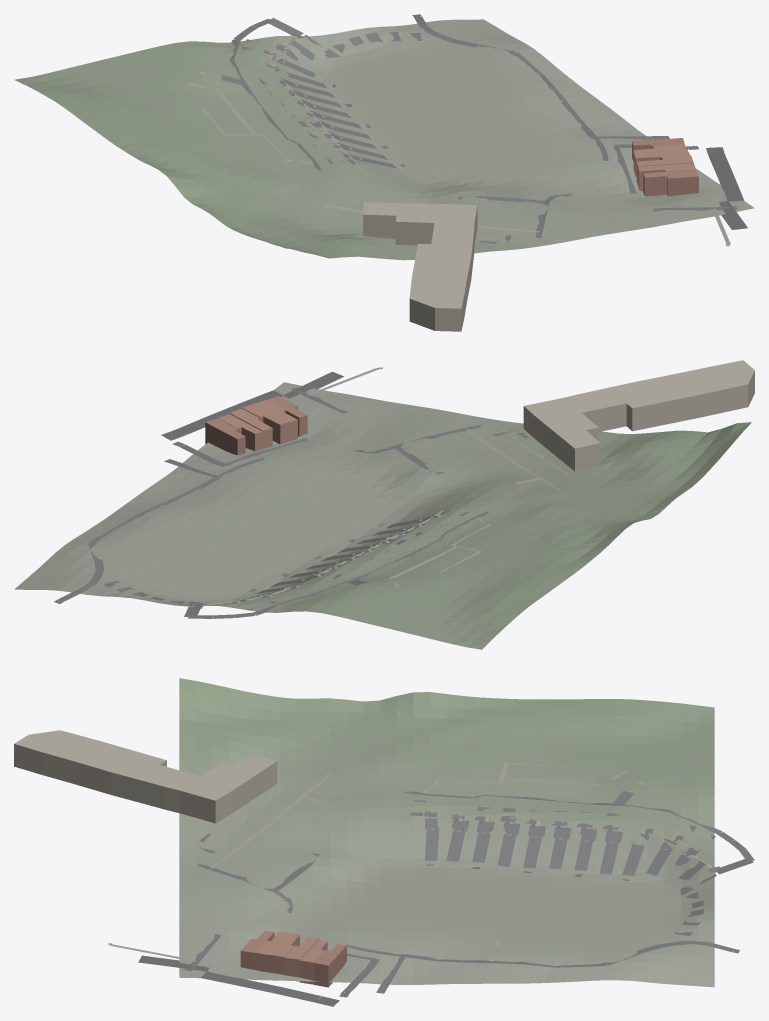
Rendered from tile_-9_-3.glb.
3 renders of one model, top to bottom at view 1: azimuth 30°, elevation 25°; view 2: azimuth 150°, elevation 25°; view 3: azimuth 270°, elevation 25°, orthographic.
Parts seen in each view (by area): view 1: terrain, buildings, roads; view 2: terrain, buildings, roads; view 3: terrain, buildings, roads.
Part boxes in pixels (x1,y1,x2,y2): terrain: [14, 19, 754, 260]; buildings: [363, 138, 698, 331]; roads: [187, 14, 747, 246]; terrain: [14, 382, 751, 649]; buildings: [205, 360, 754, 471]; roads: [54, 367, 573, 618]; terrain: [179, 678, 714, 987]; buildings: [14, 730, 346, 987]; roads: [108, 762, 754, 1006].
Bounding box in the file's own units: 281 × 43.8 × 354.
